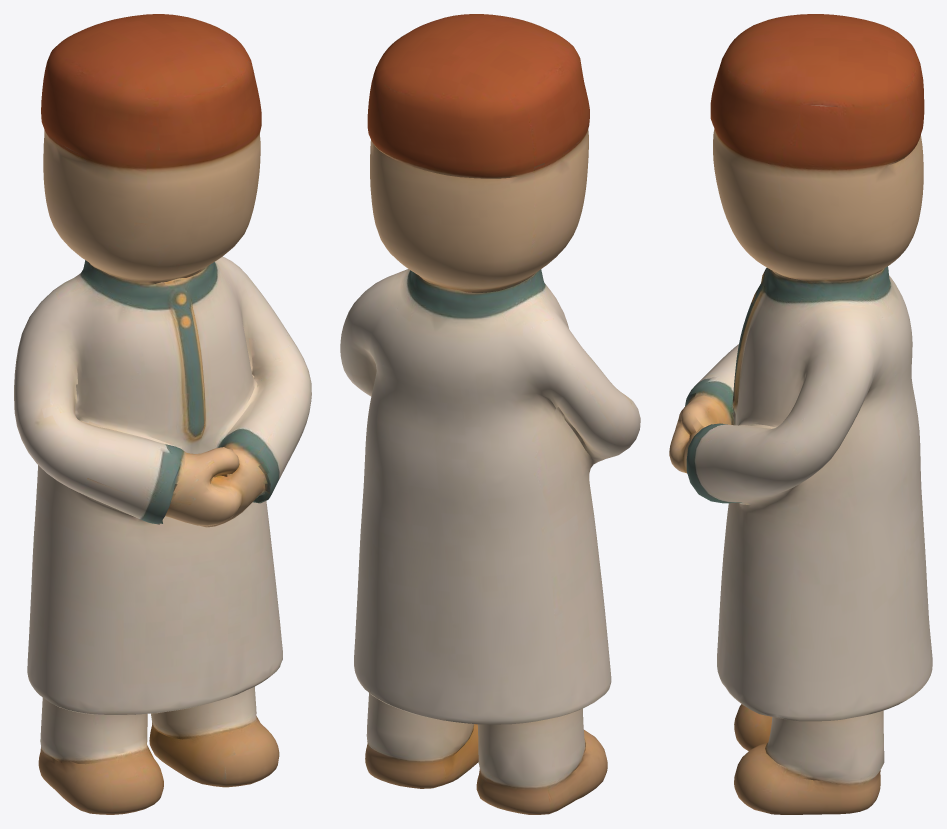
File: Meshy_AI_model.glb
The picture shows the model from 3 angles, left to right: view 1: azimuth 30°, elevation 25°; view 2: azimuth 150°, elevation 25°; view 3: azimuth 270°, elevation 25°; orthographic projection.
Visible parts, largest first — view 1: Mesh0; view 2: Mesh0; view 3: Mesh0.
Boxes of the visible parts, x1=… form: Mesh0: x1=14, y1=14, x2=311, y2=814; Mesh0: x1=340, y1=14, x2=640, y2=814; Mesh0: x1=669, y1=14, x2=932, y2=814.
Size of the model in its own units: 0.7539 by 1.9 by 0.6171.
Materials: 1 (1 with a texture image).
